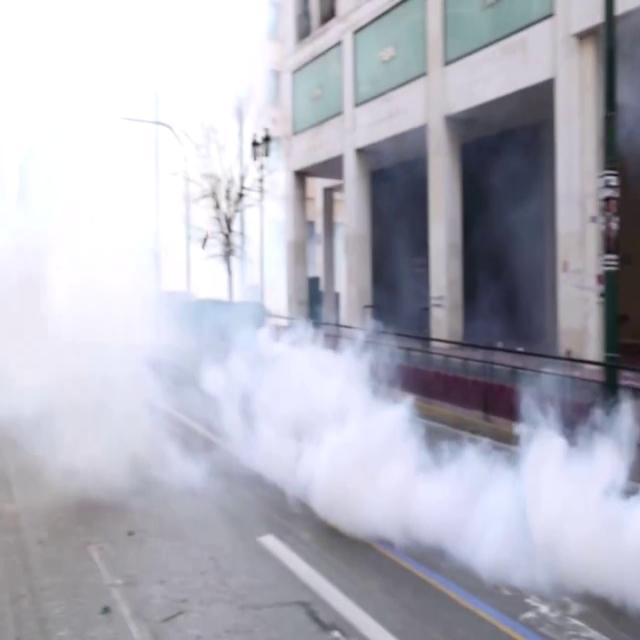Smoke: (2, 272, 638, 572)
